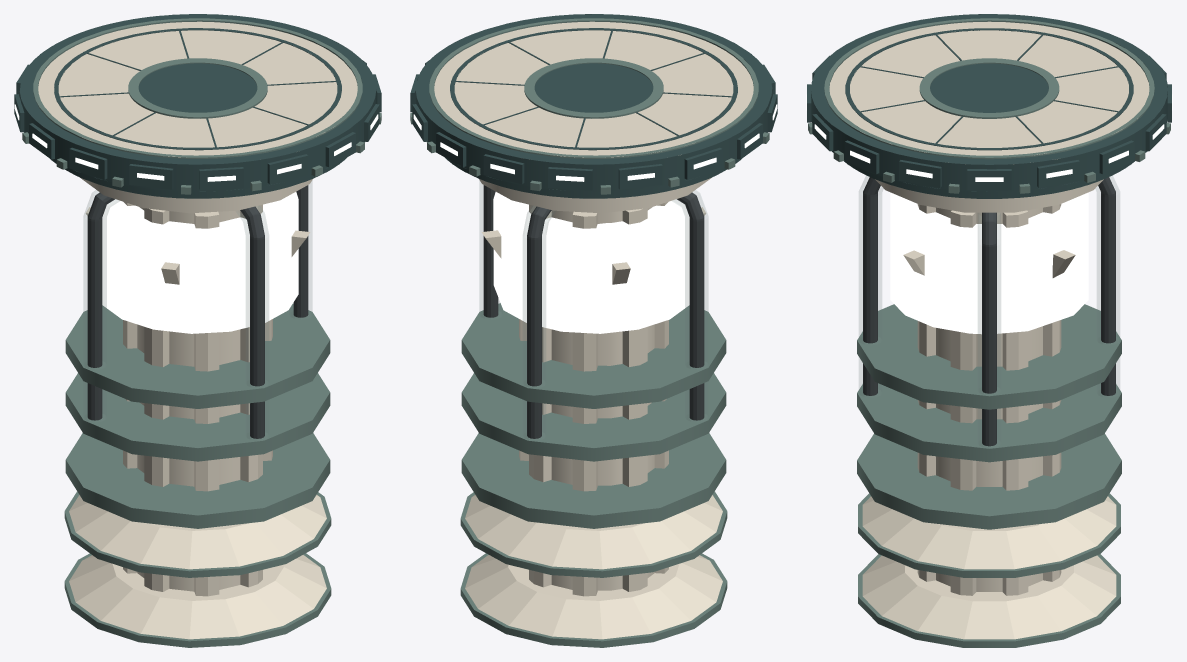
File: Platform_Pillar_lab.glb
The picture shows the model from 3 angles, left to right: view 1: azimuth 30°, elevation 25°; view 2: azimuth 150°, elevation 25°; view 3: azimuth 270°, elevation 25°; orthographic projection.
Visible parts, largest first — view 1: Platform_Pillar; view 2: Platform_Pillar; view 3: Platform_Pillar.
Boxes of the visible parts, <box> form: Platform_Pillar: <box>14,14,381,647</box>; Platform_Pillar: <box>410,14,777,647</box>; Platform_Pillar: <box>806,14,1172,647</box>.
Bounding box in the file's own units: 12.32 × 18.71 × 12.32.
